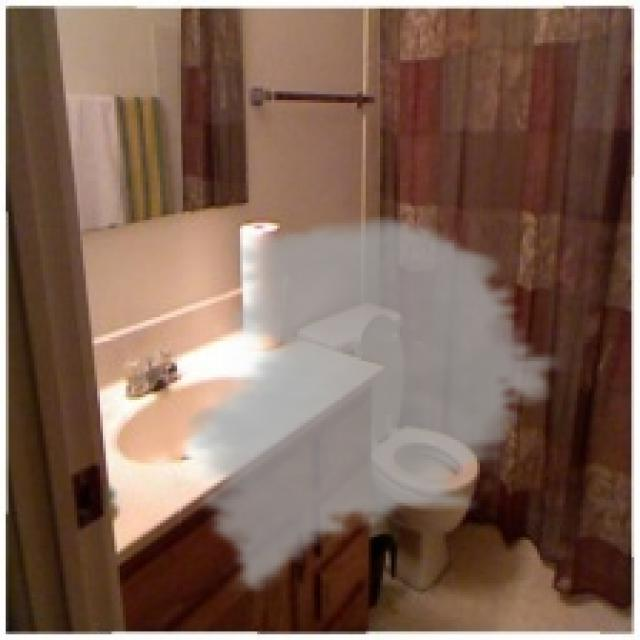smoke: (171, 212, 566, 594)
